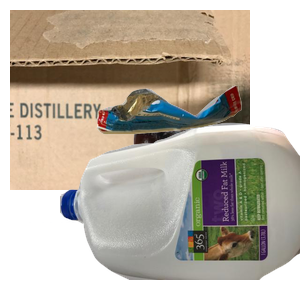cardboard: (10, 10, 250, 190)
glass: (29, 120, 242, 300)
plastic: (60, 120, 300, 300)
trash: (94, 83, 300, 210)
